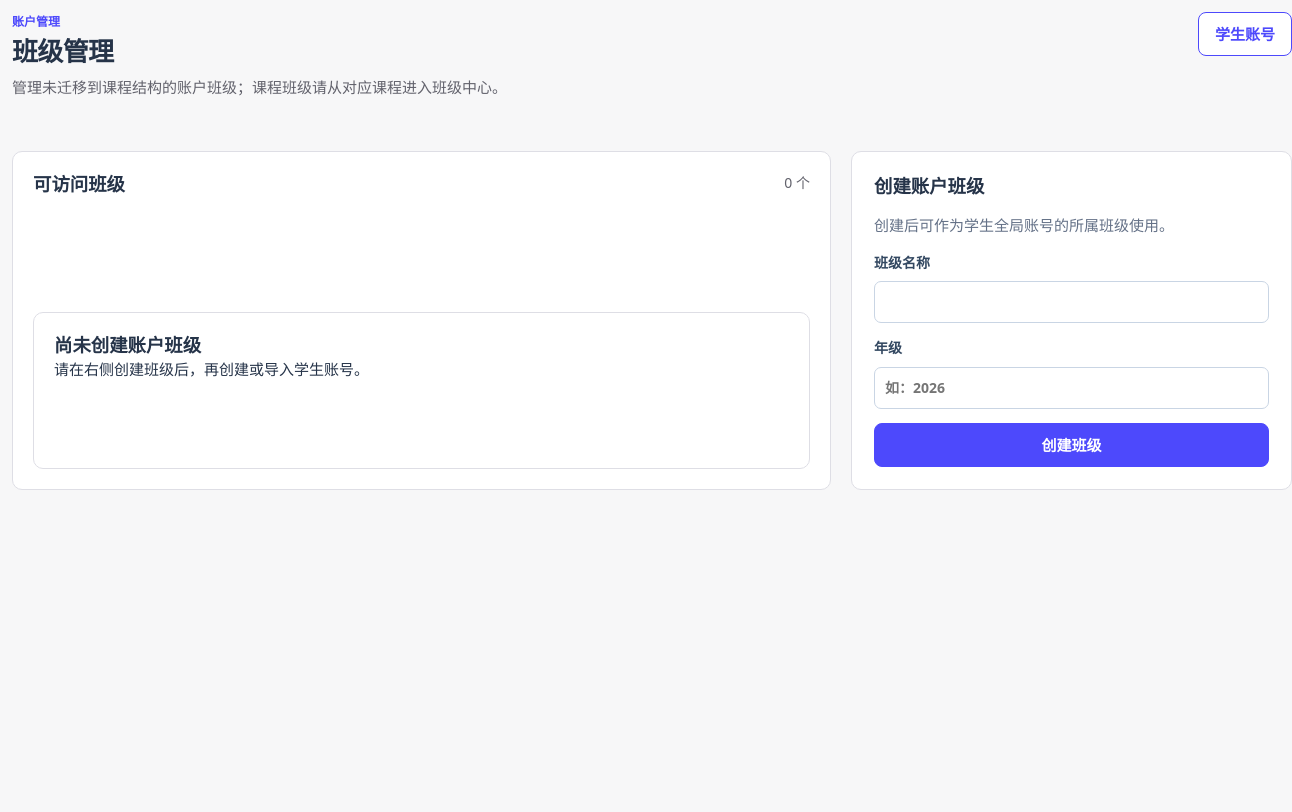
Scenario: TeacherAccountClassList › creates an account-scoped class through its Vue form
This screenshot has width=1292, height=812.
Type "新账户班" into the field named "name". click: (1072, 302)
box: [874,282,1269,324]
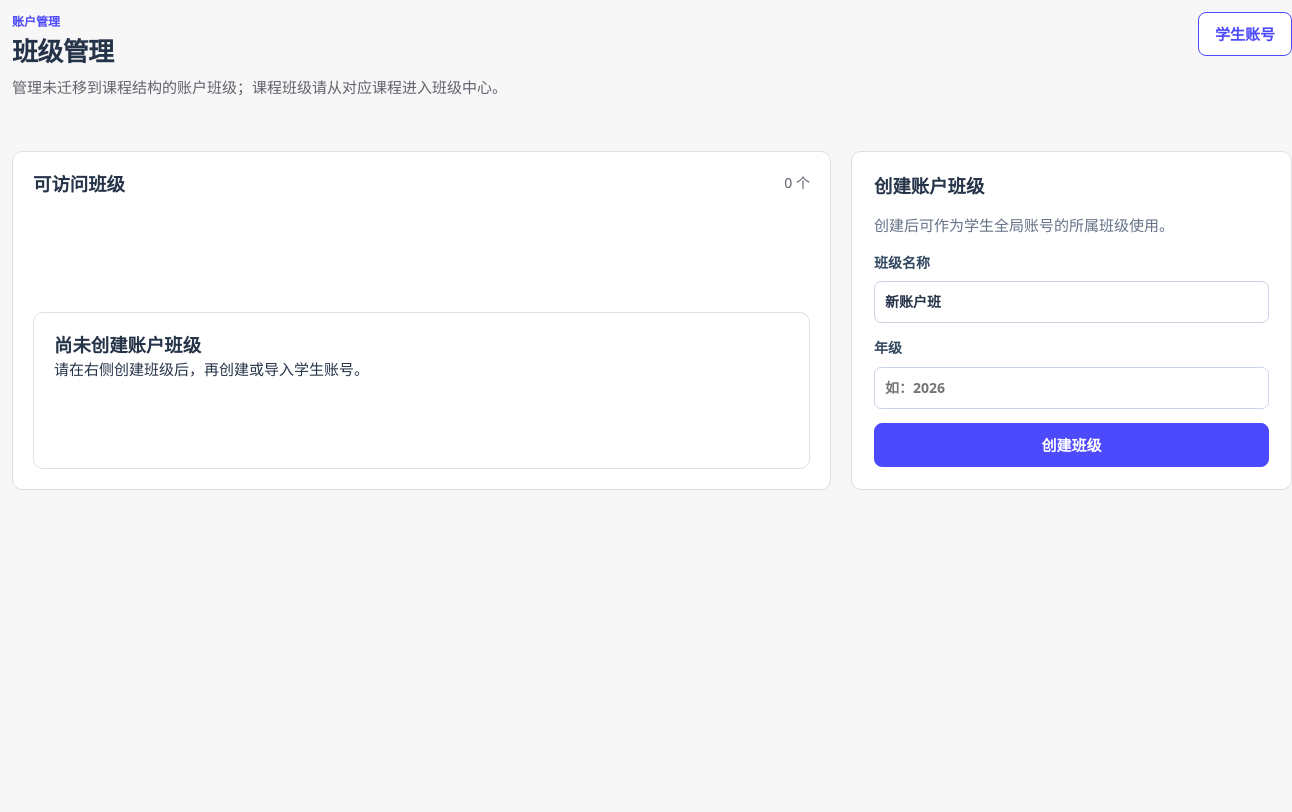
Type "2026" into the field named "academic_year". click: (1072, 388)
box: [874,367,1269,409]
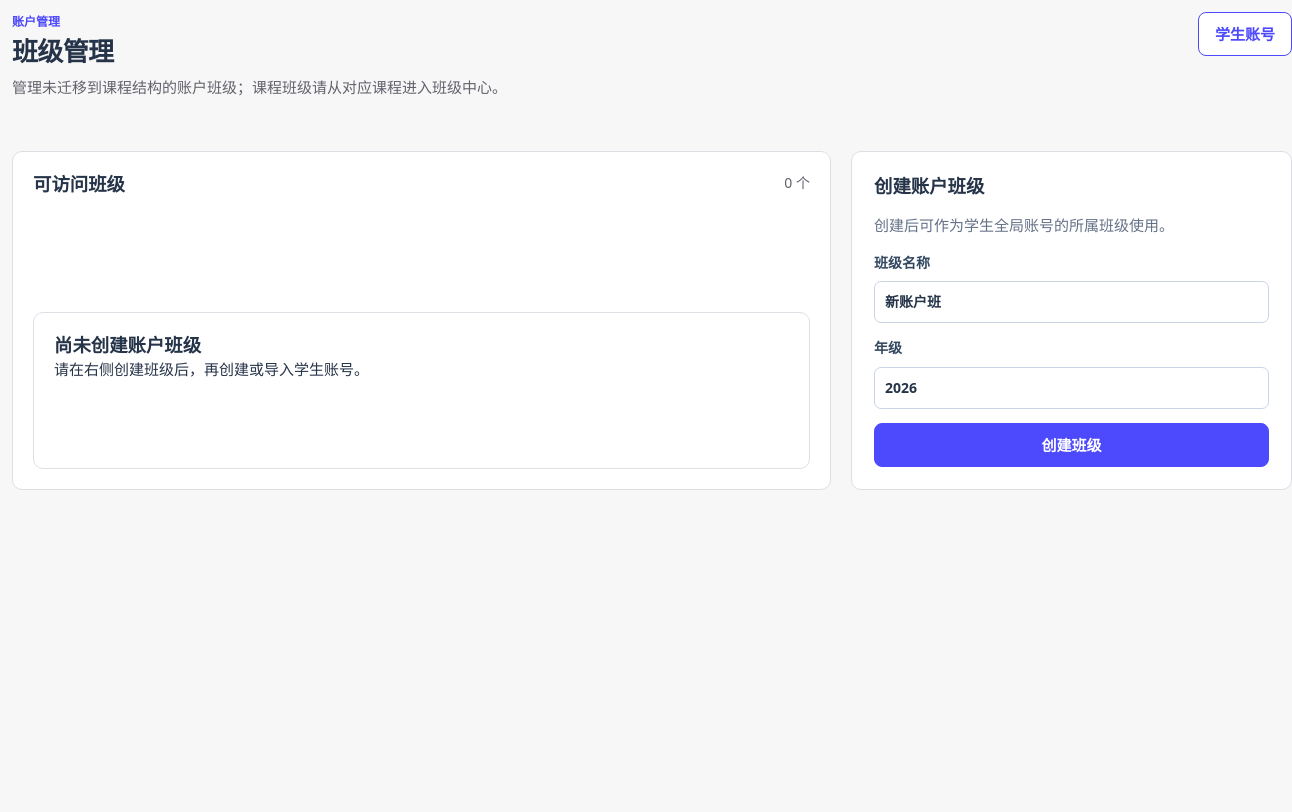
Submit the form, box [874,252,1269,467]
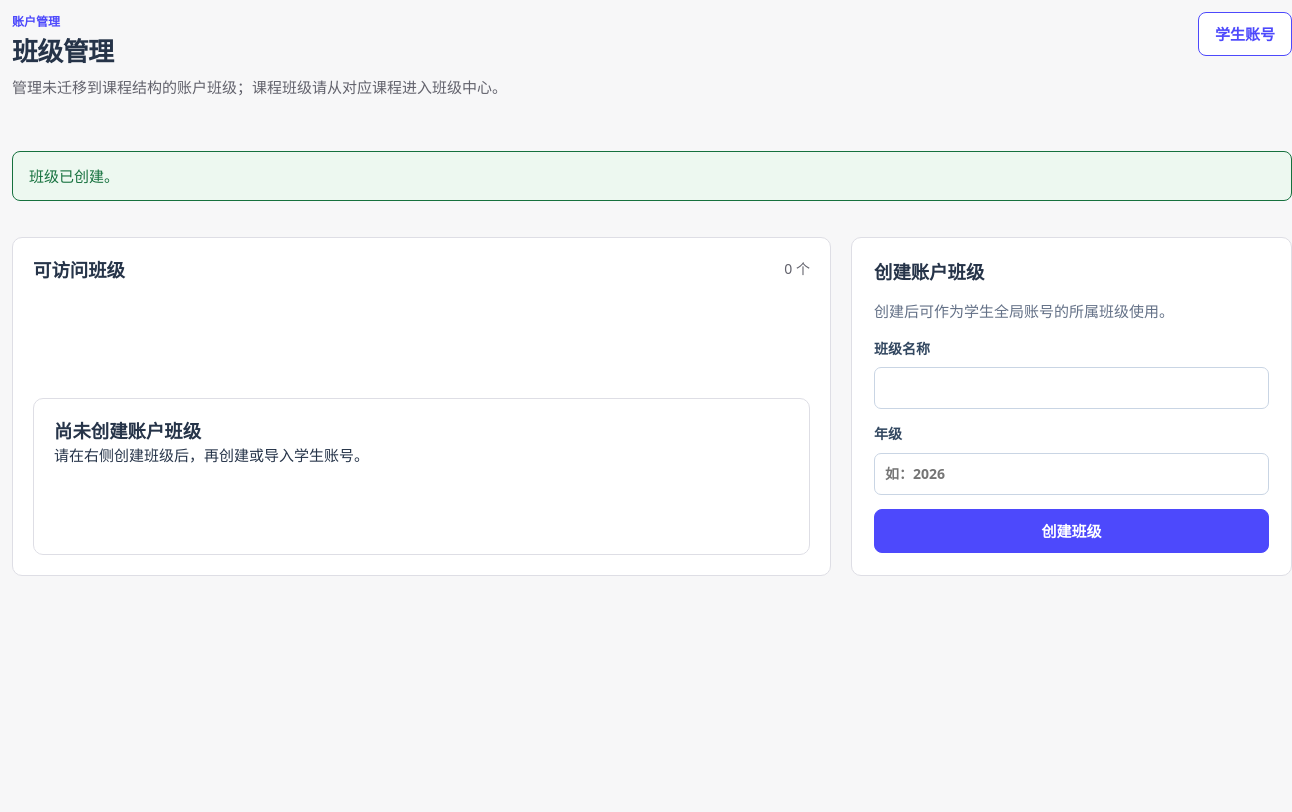
Expected: the text "班级已创建。" is shown, [12,151,1291,201]
